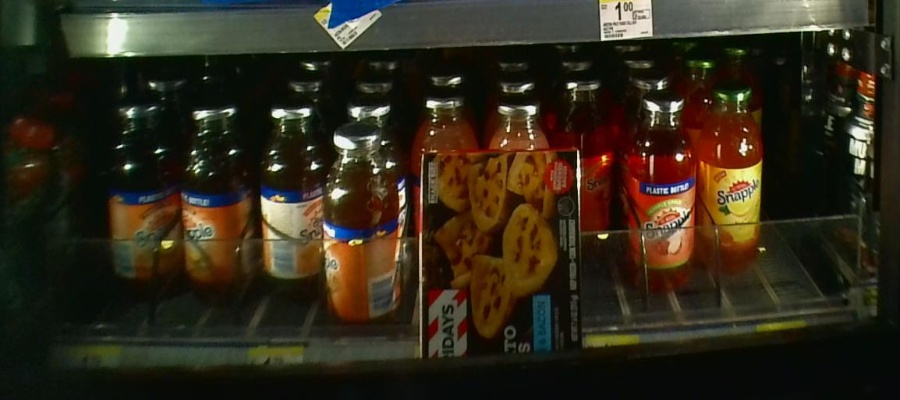bottle: (323, 120, 411, 333), (101, 79, 179, 297), (622, 87, 699, 293), (182, 93, 259, 296), (701, 75, 768, 286), (260, 103, 323, 298), (577, 72, 610, 256)
